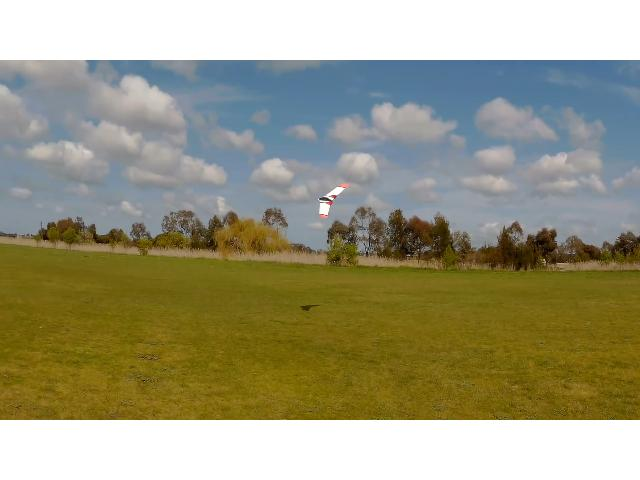Anti-Drone: (318, 183, 350, 219)
